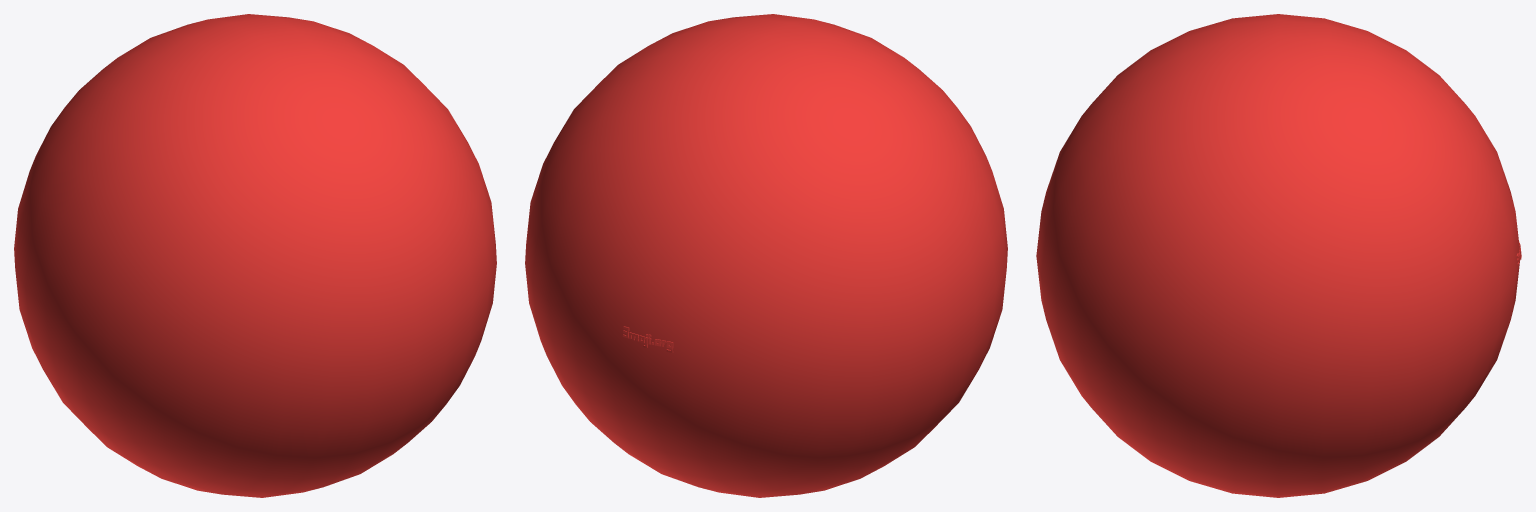
The model's file is red_circle.fbx.
3 views of the same model, side by side, from view 1: azimuth 30°, elevation 25°; view 2: azimuth 150°, elevation 25°; view 3: azimuth 270°, elevation 25° (orthographic).
Visible parts, largest first — view 1: Cube.6662; view 2: Cube.6662; view 3: Cube.6662.
Part boxes in pixels (bbox=[...]): Cube.6662: bbox=[14, 14, 496, 497]; Cube.6662: bbox=[525, 14, 1007, 497]; Cube.6662: bbox=[1036, 14, 1521, 497].
Bounding box in the file's own units: 223 × 223 × 223.
Materials: 1 (1 with a texture image).
